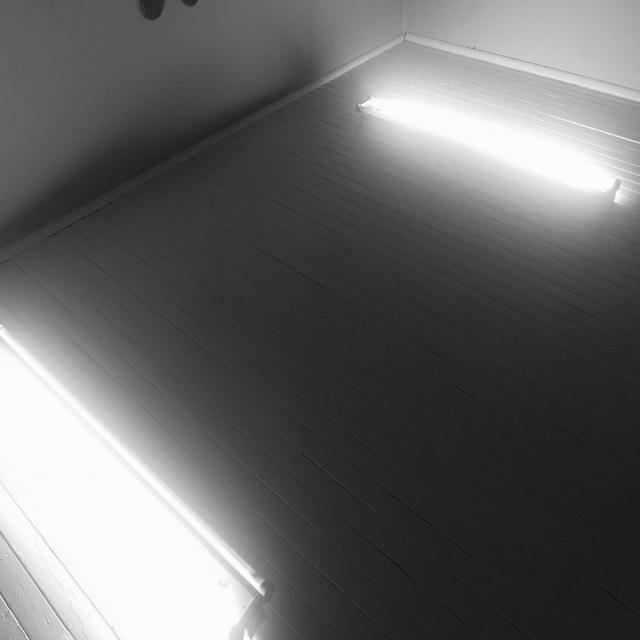light: (0, 322, 274, 638), (357, 92, 620, 200)
